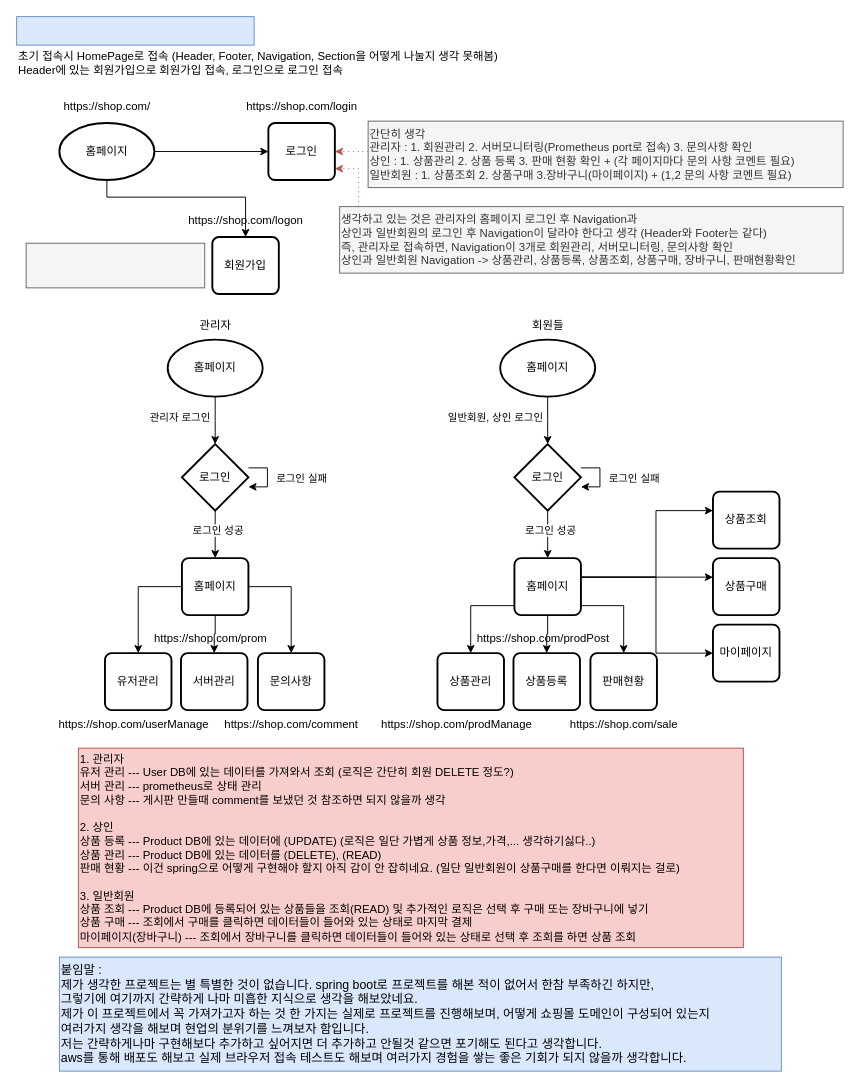
The diagram is 860 pixels wide and 1088 high, and some of its shapes have lost their labels. The centre of each missing label's shape, as x and y in pixels:
"관리자 : 회원가입이 필요없음 상인 : 회원가입시 상인으로 등록 구매자 : 회원가입시 일반회원 등록" belongs at point 115,265.
"주소는 이해를 돕기 위한 예시일 뿐입니다." belongs at point 135,30.
